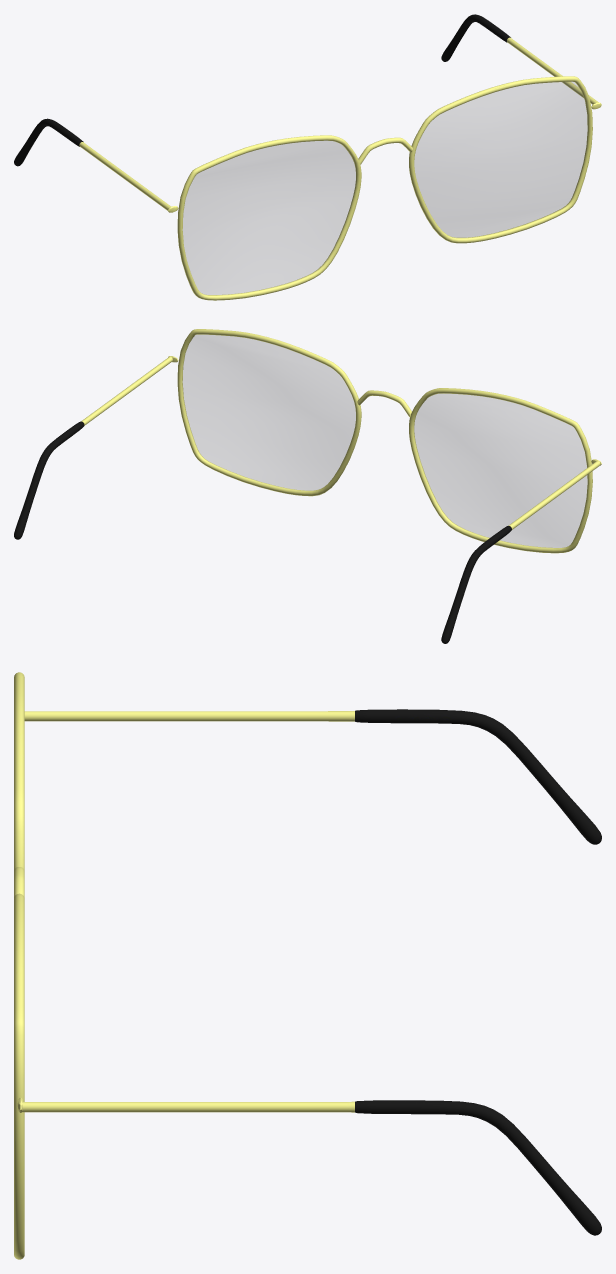
File: transparent_glasses_with_baked_textures.glb
The picture shows the model from 3 angles, top to bottom: view 1: azimuth 30°, elevation 25°; view 2: azimuth 150°, elevation 25°; view 3: azimuth 270°, elevation 25°; orthographic projection. The views are drawn at different scales.
Parts seen in each view (by area): view 1: Glases; view 2: Glases; view 3: Glases.
Part boxes in pixels (x1,y1,x2,y2): Glases: [14, 14, 601, 300]; Glases: [14, 329, 601, 643]; Glases: [14, 672, 601, 1259].
Size of the model in its own units: 2.85 by 0.948 by 1.78.
Materials: 1 (1 with a texture image).
